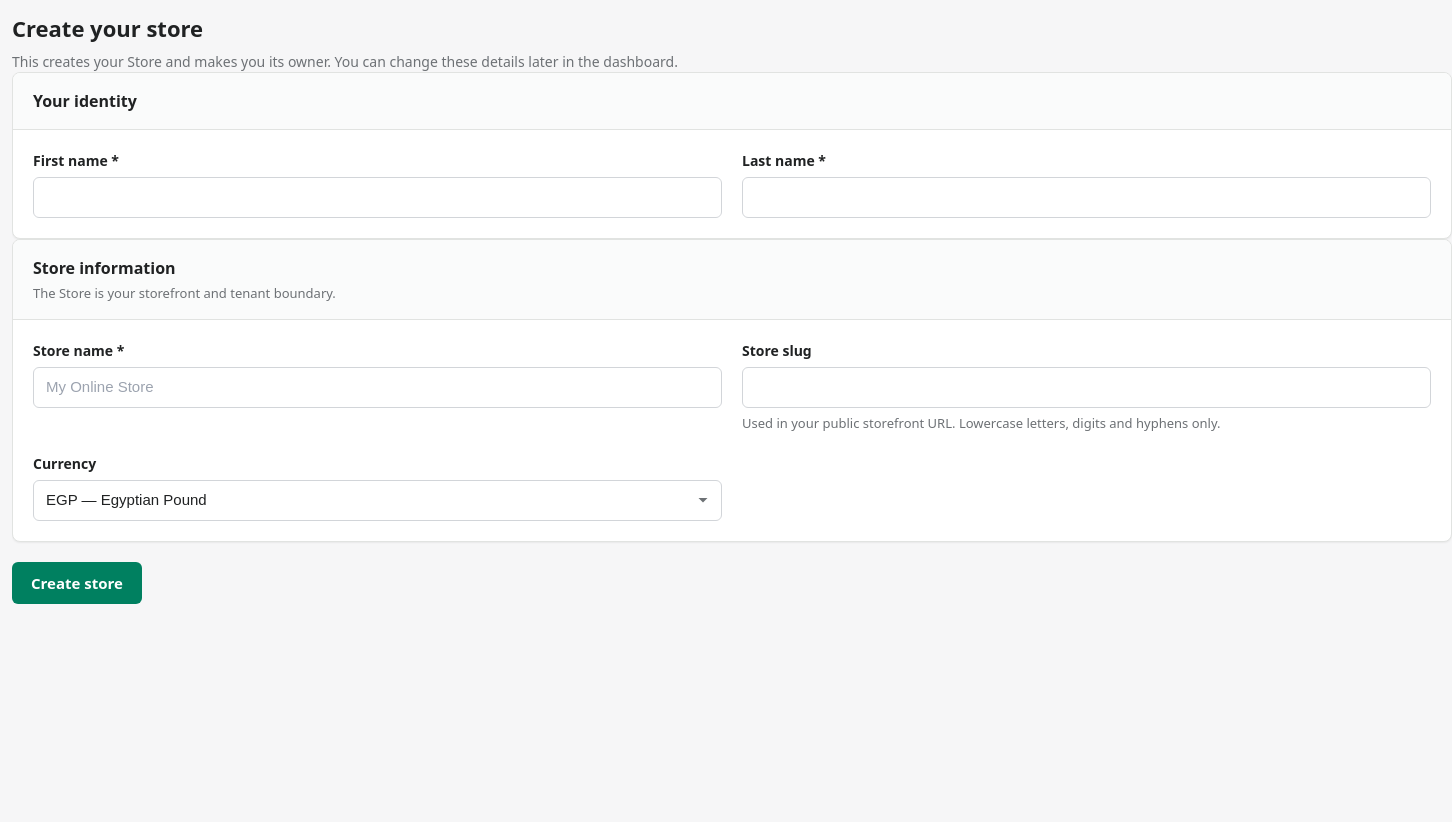
Test case: StoreInfoStep › validates an empty (invalid) slug before submitting
The image size is (1452, 822).
Type "Ziad" into the field labelled "First name *" at x=378, y=197, box [33,177,722,218]
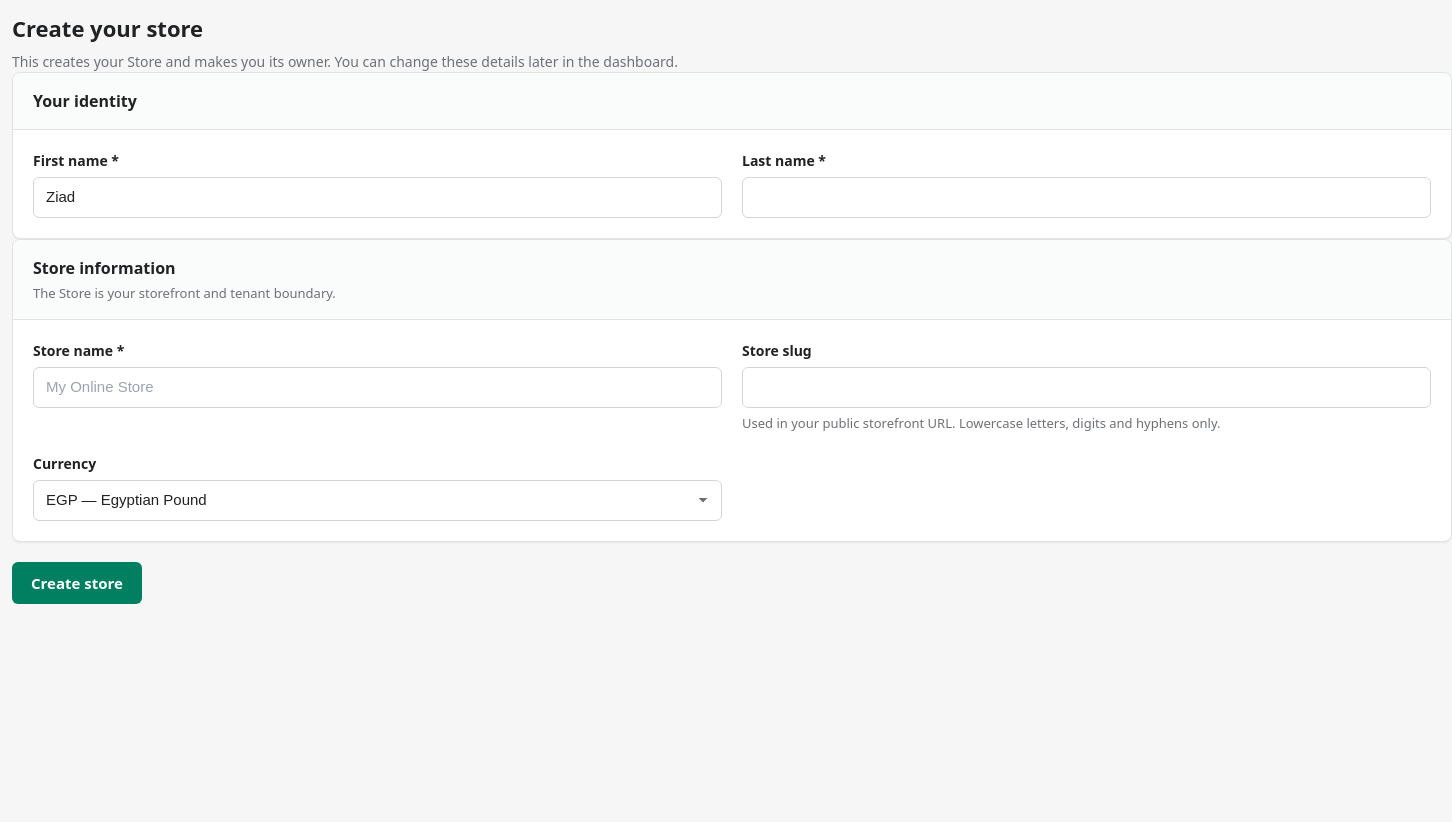
Type "Owner" into the field labelled "Last name *" at x=1086, y=197, box [742,177,1431,218]
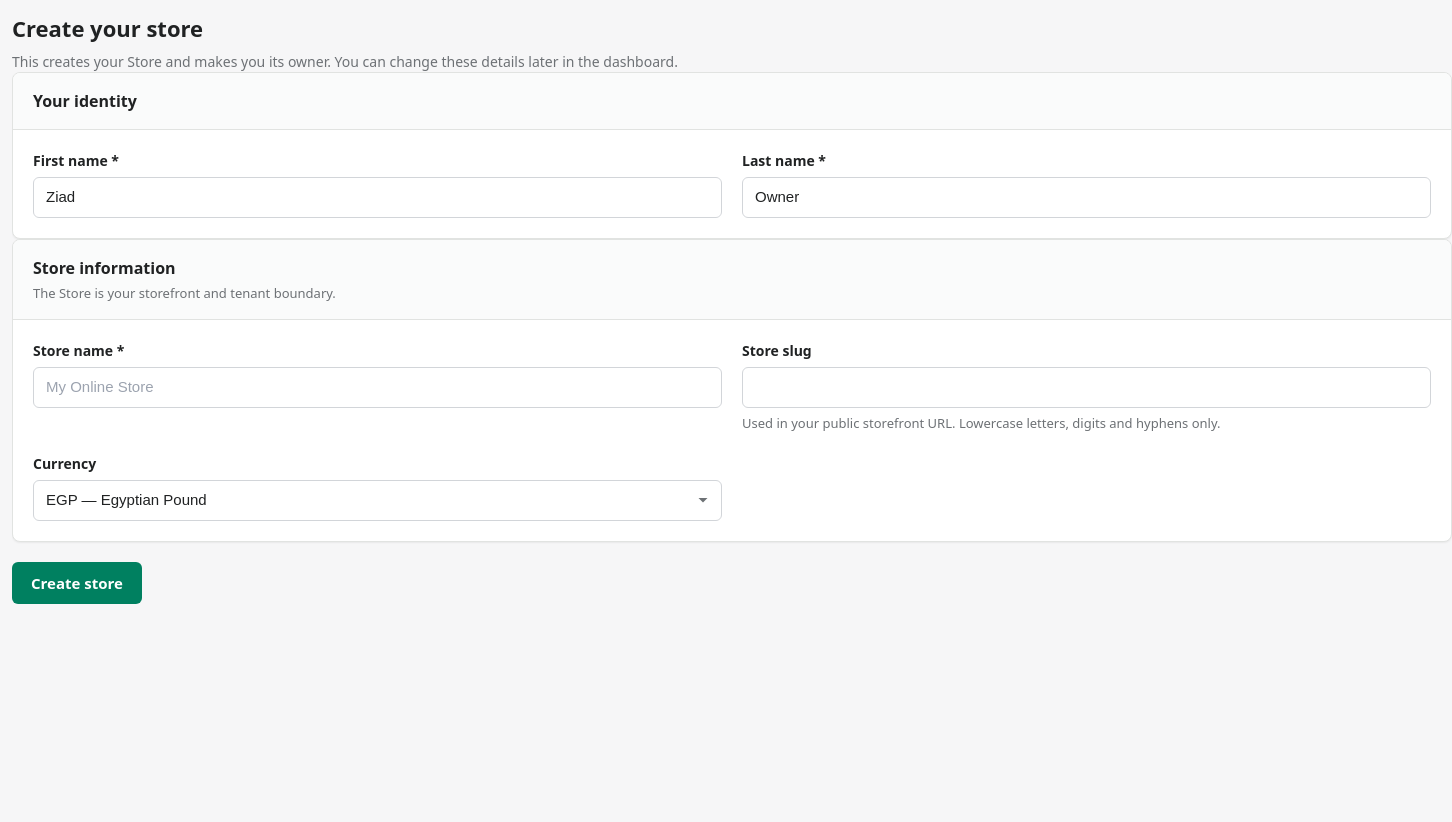
Type "My Store" into the field labelled "Store name *" at x=378, y=387, box [33,367,722,408]
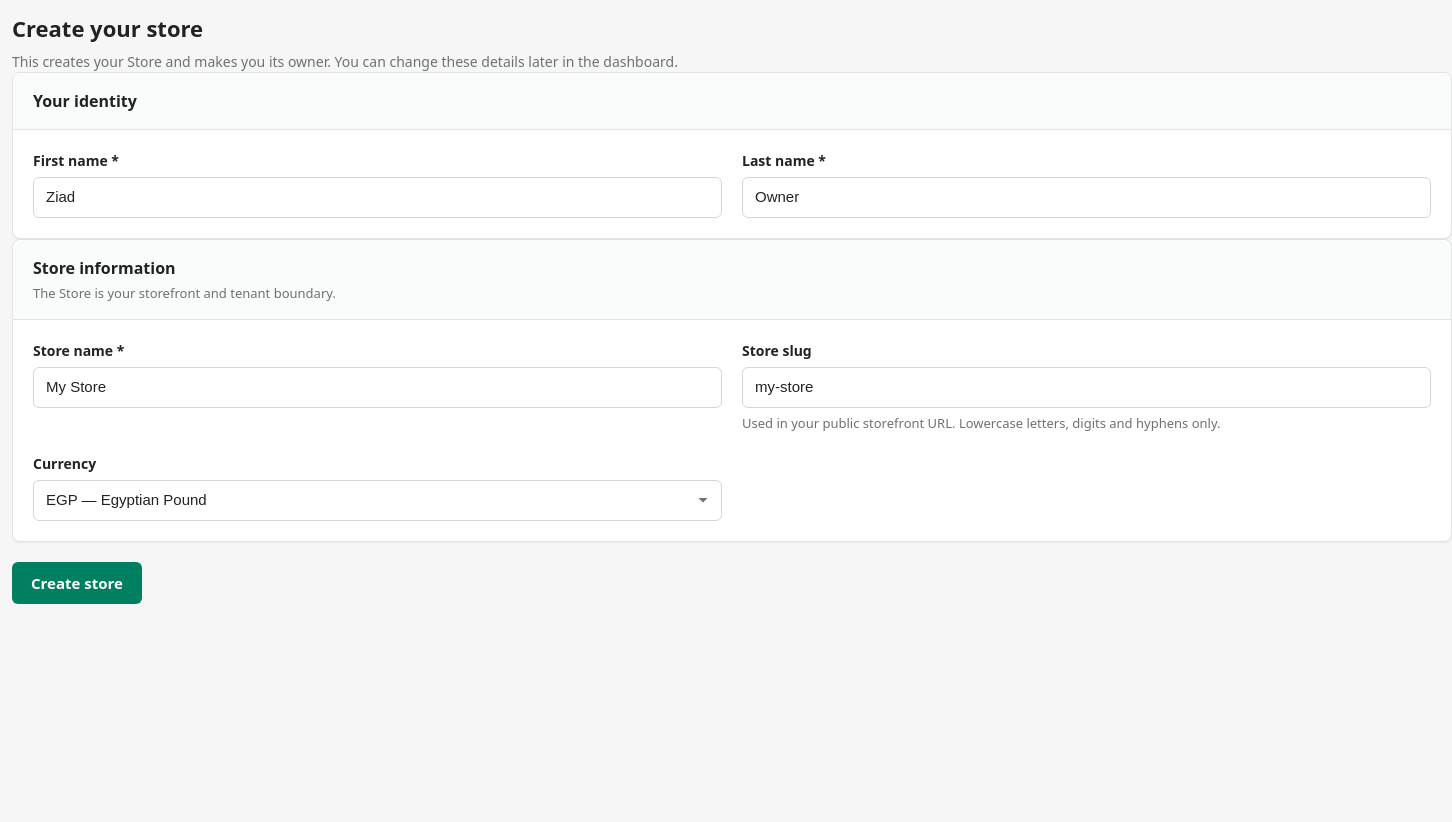
Replace the text in the field labelled "Store slug" with "!!!" at x=1086, y=387, box [742,367,1431,408]
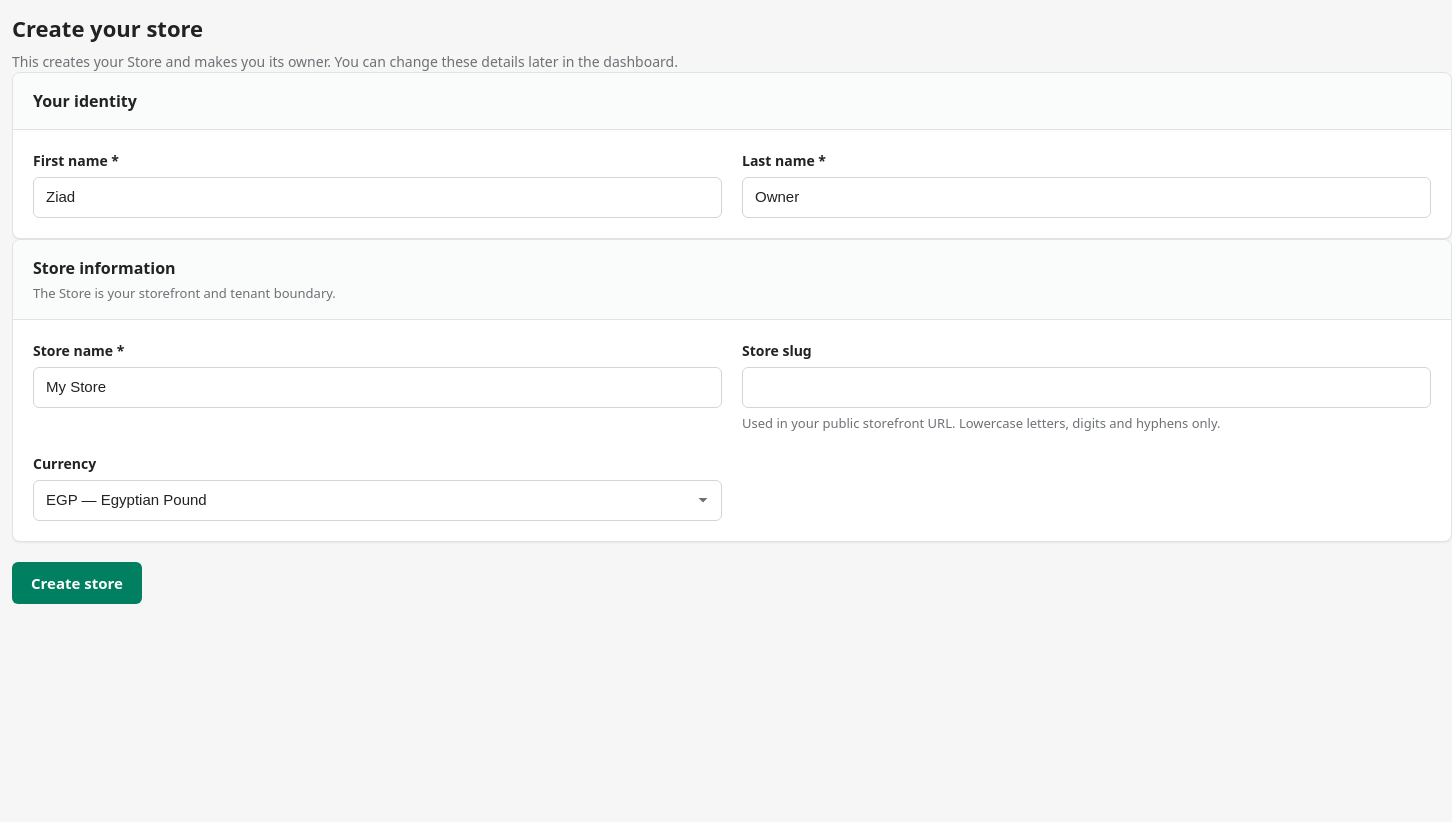
Click the button "Create store" at x=77, y=582, box [12,562,142,604]
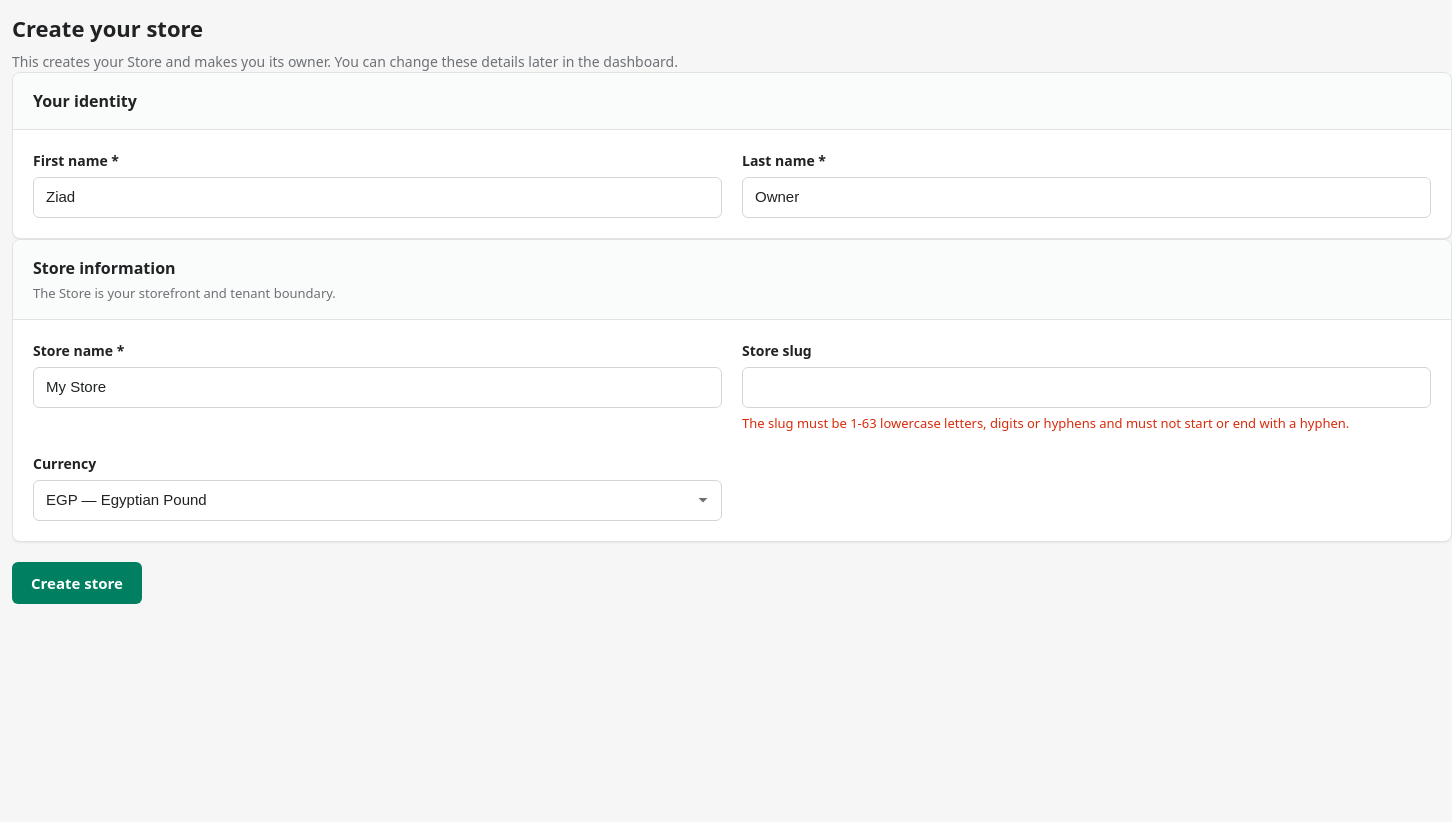
expect the text "The slug must be" is shown: met, box [742,414,1349,432]
